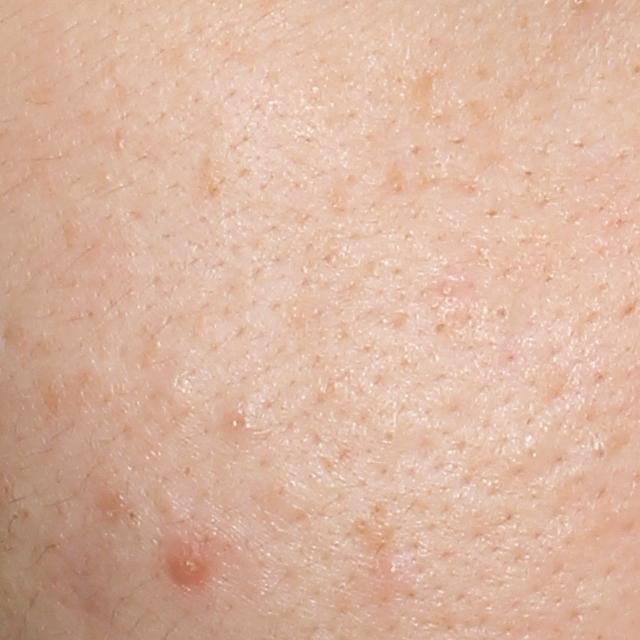comedo: (489, 300, 514, 324)
